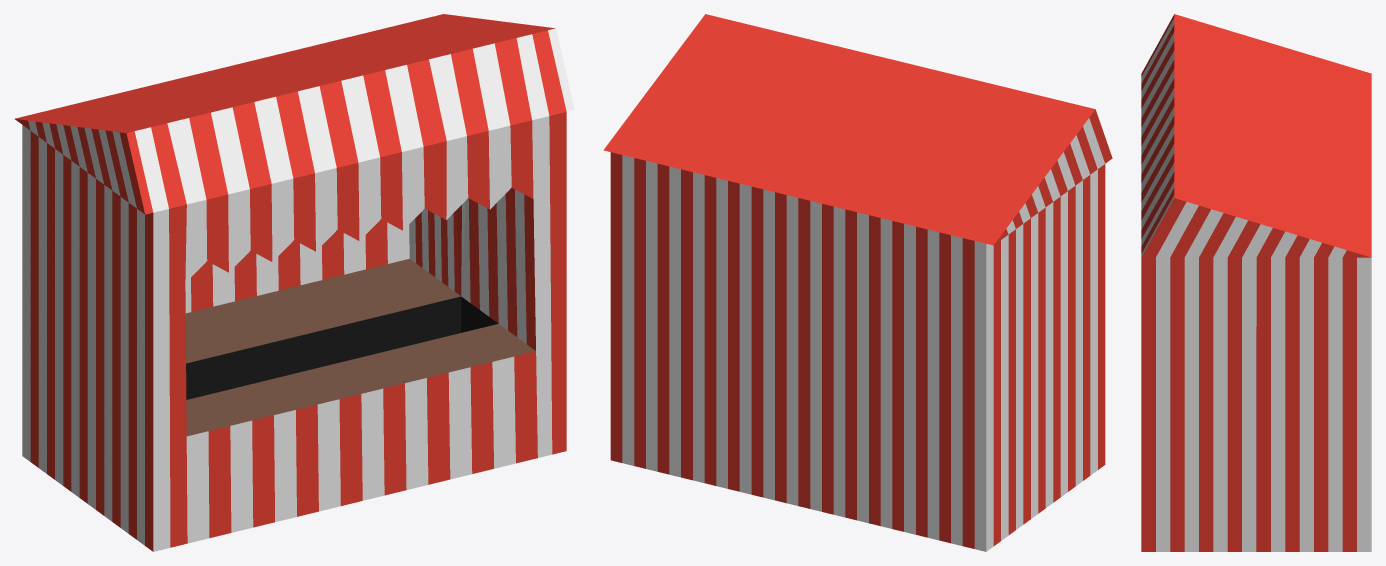
The model's file is Carnival Booth.glb.
3 views of the same model, side by side, from view 1: azimuth 30°, elevation 25°; view 2: azimuth 150°, elevation 25°; view 3: azimuth 270°, elevation 25° (orthographic). The views are drawn at different scales.
Visible parts, largest first — view 1: group762351938; view 2: group762351938; view 3: group762351938.
Part boxes in pixels (x1=…): group762351938: x1=14, y1=14, x2=574, y2=551; group762351938: x1=603, y1=14, x2=1112, y2=551; group762351938: x1=1141, y1=14, x2=1371, y2=551.
Size of the model in its own units: 0.53 by 0.48 by 0.28.
